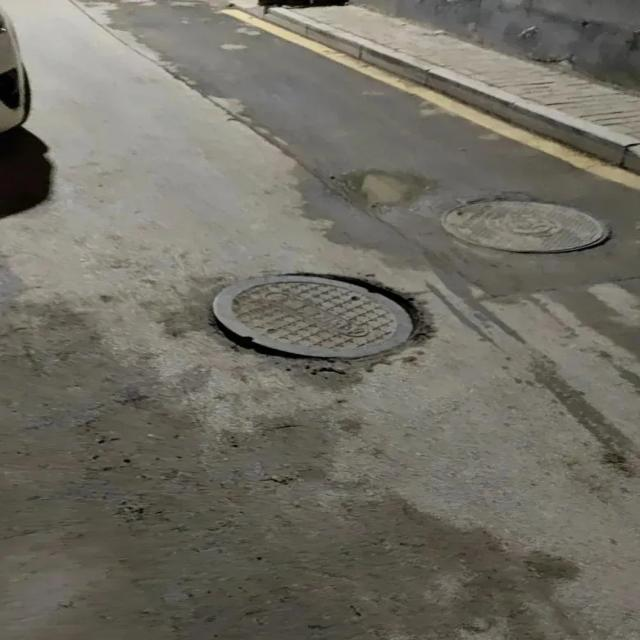manhole: (212, 272, 419, 358), (441, 201, 609, 252)
